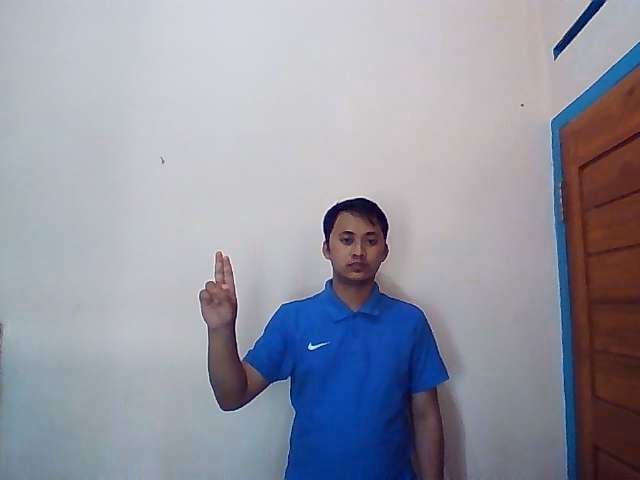U: (198, 252, 238, 328)
